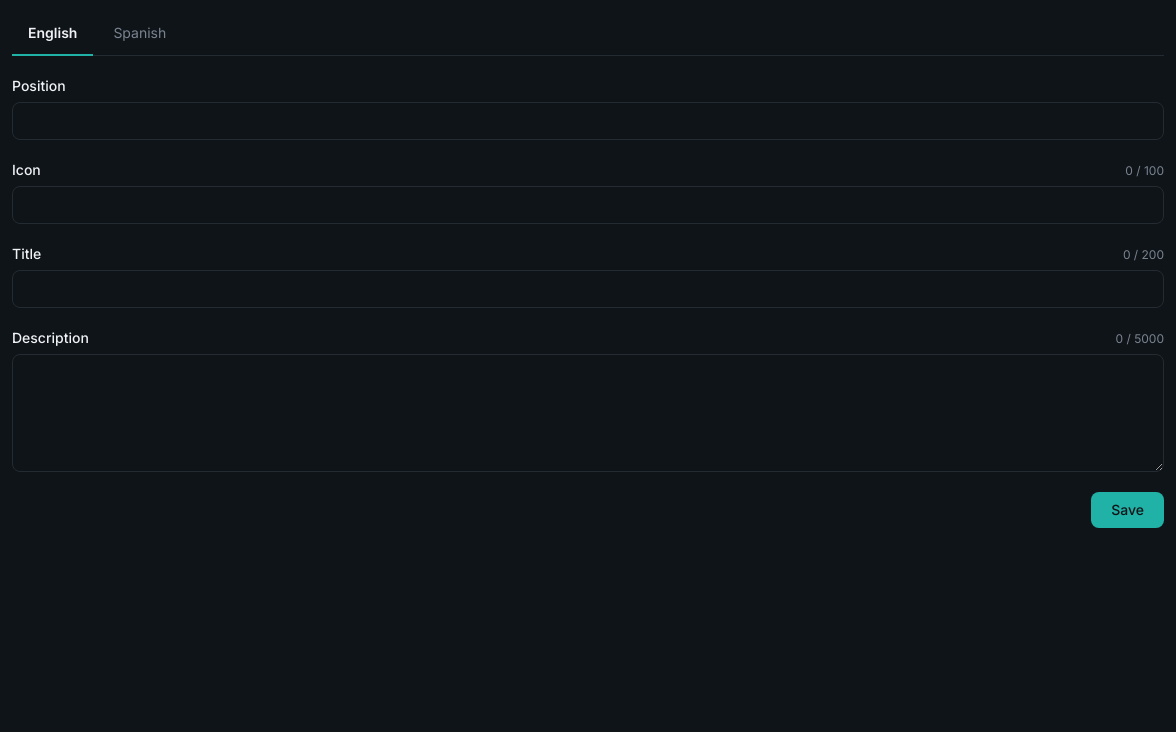
ItemForm fields › renders text and textarea counters
Type "Clean" into the field labelled "Title". click: (588, 289)
box: [12,270,1164,308]
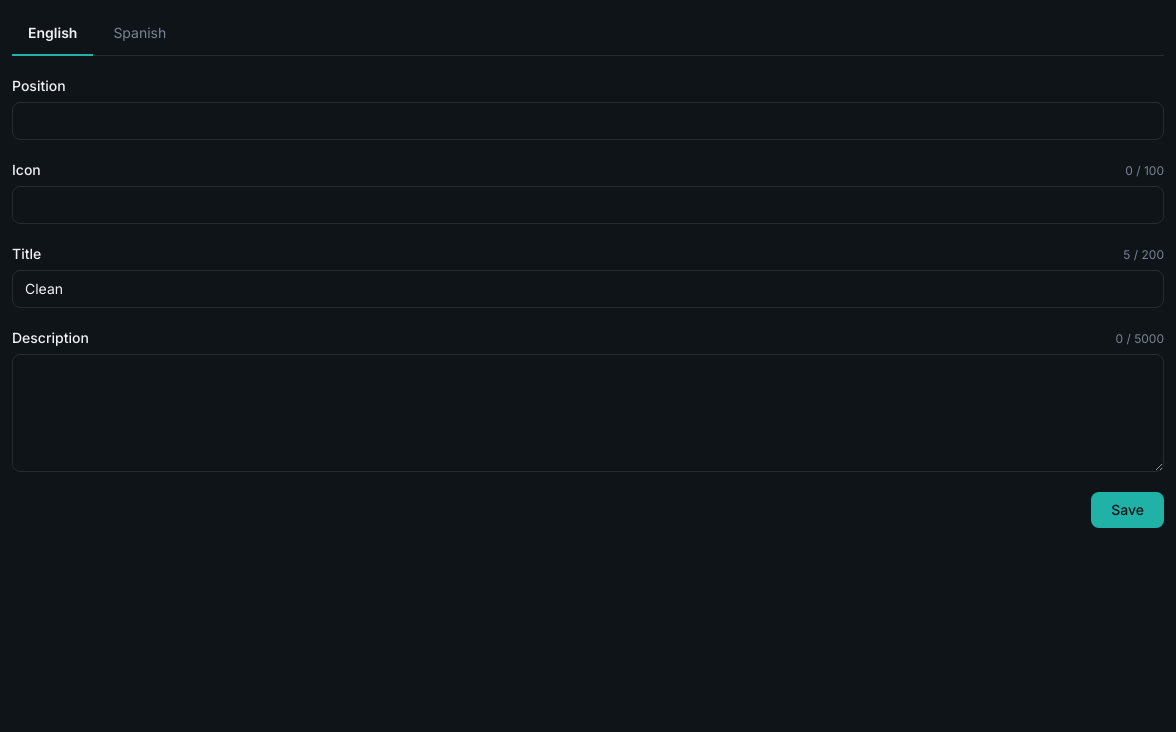
expect the text "0 / 5000" is shown: met, box [1116,331,1164,347]
expect the text "5 / 200" is shown: met, box [1123,247,1164,263]
